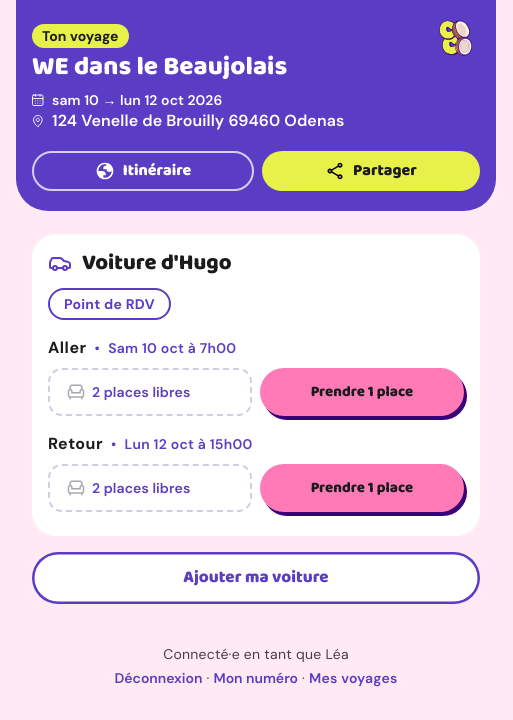
Scenario: Parcours d'un invité (maquette Figma) › « Déconnexion » ferme la session du compte
(page scrolled)
Click the button "Déconnexion". click: x=158, y=678
box: [114, 668, 202, 688]
(page scrolled)
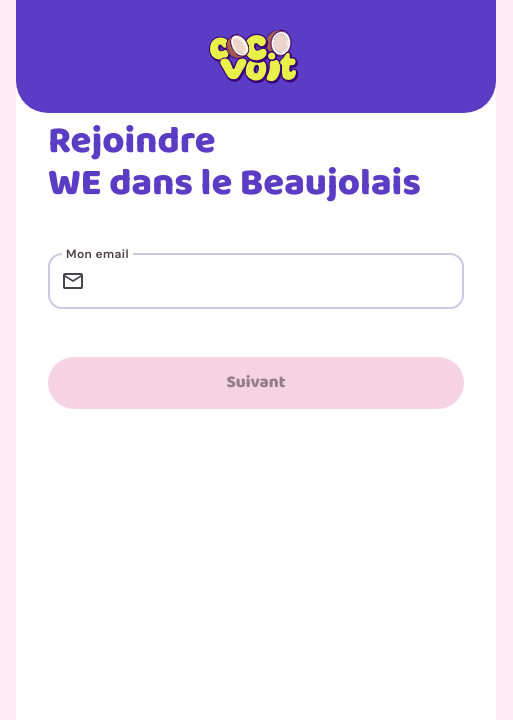
Now the heading is shown, box [48, 121, 464, 205]
